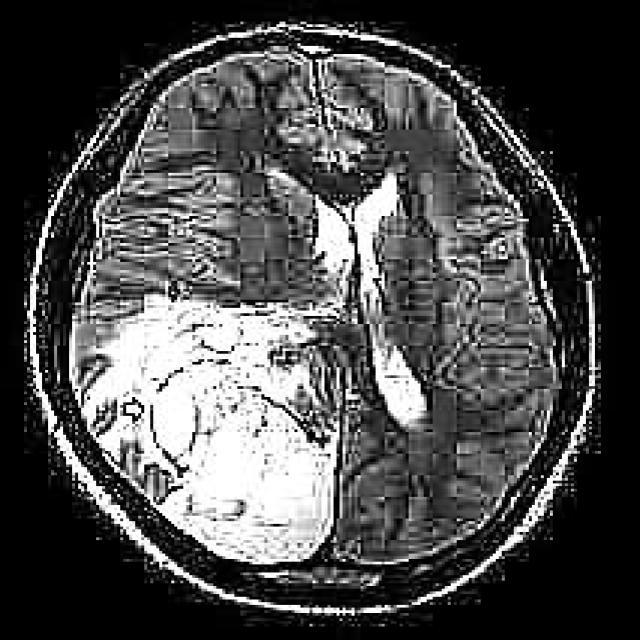Tumor: (78, 283, 340, 570)
